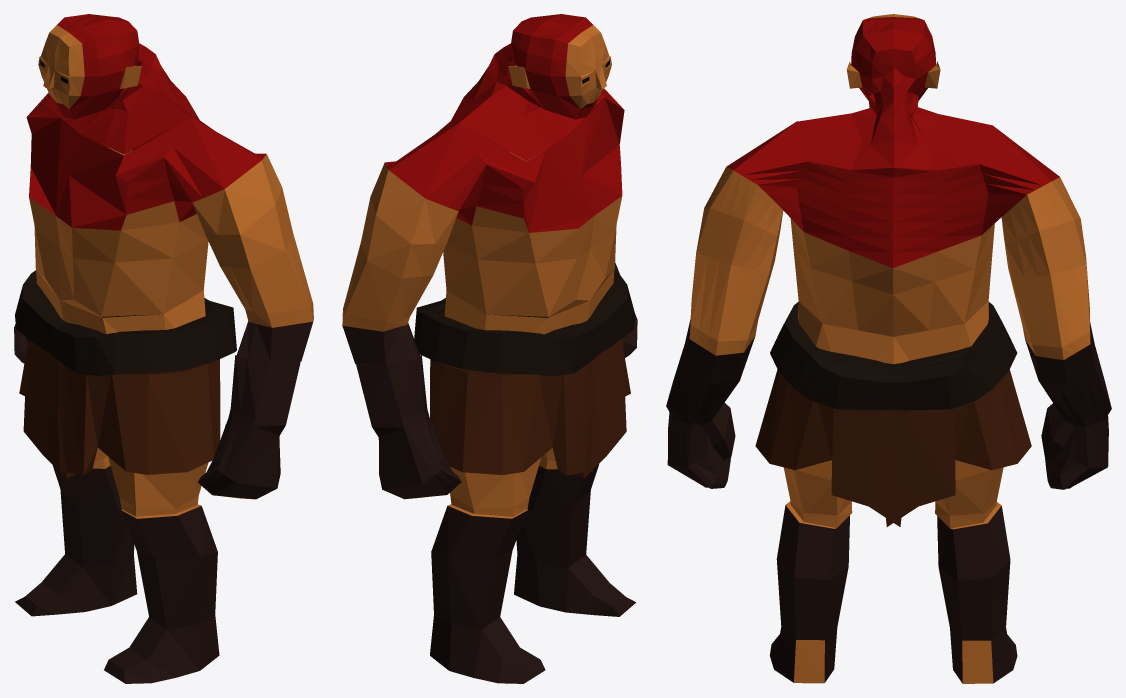
The model's file is Giant_anim_attack.obj.
The picture shows the model from 3 angles, left to right: view 1: azimuth 30°, elevation 25°; view 2: azimuth 150°, elevation 25°; view 3: azimuth 270°, elevation 25°; orthographic projection.
Parts seen in each view (by area): view 1: Cube; view 2: Cube; view 3: Cube.
Boxes of the visible parts, x1,y1,x2,y2 form: Cube: (14, 14, 313, 683); Cube: (342, 14, 637, 683); Cube: (666, 14, 1111, 683).
Bounding box in the file's own units: 1.19 × 3.89 × 2.52.
